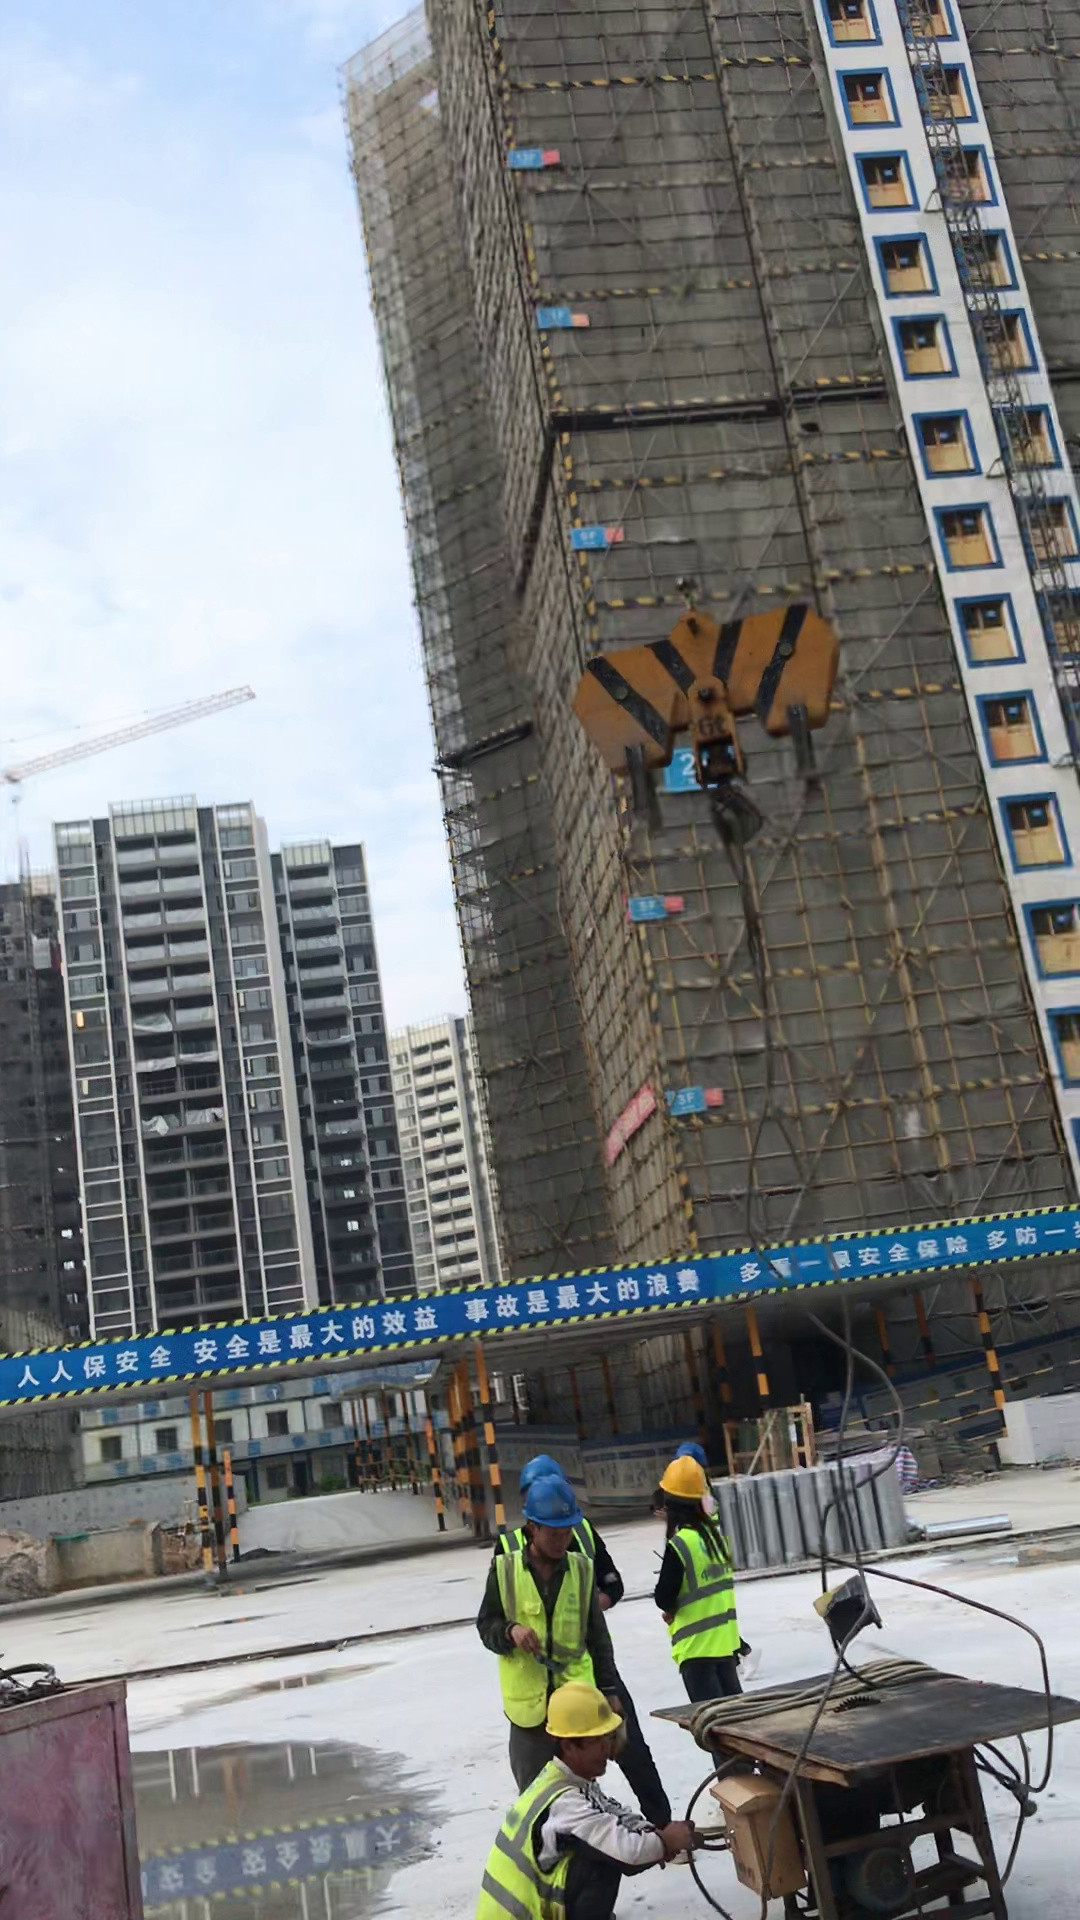brick: (996, 1392, 1080, 1474)
cutter: (649, 1657, 1074, 1920)
helmet: (543, 1683, 620, 1741), (521, 1476, 582, 1529), (659, 1458, 707, 1500), (519, 1454, 564, 1481)
hook: (549, 607, 849, 848)
person: (473, 1449, 686, 1816), (465, 1682, 708, 1920), (649, 1461, 757, 1702)
slogan: (15, 1303, 432, 1396), (739, 1213, 1080, 1294), (461, 1268, 700, 1336)
vest: (493, 1548, 601, 1730), (474, 1758, 590, 1920), (665, 1524, 741, 1665)
